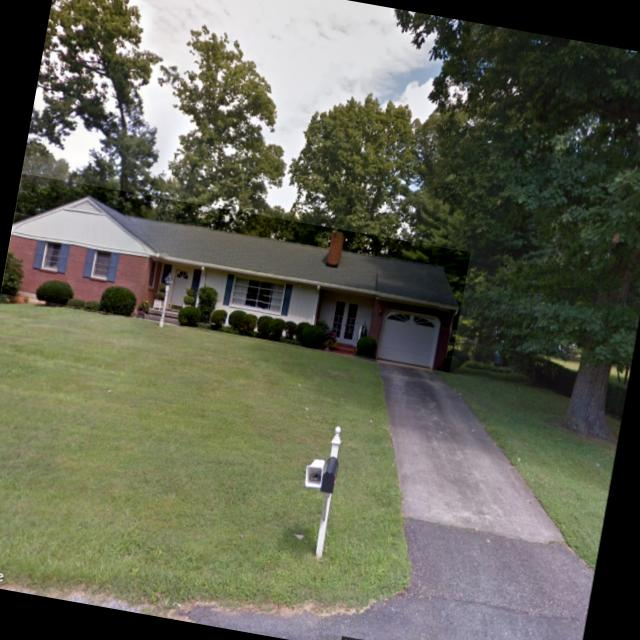House: (1, 173, 470, 372)
